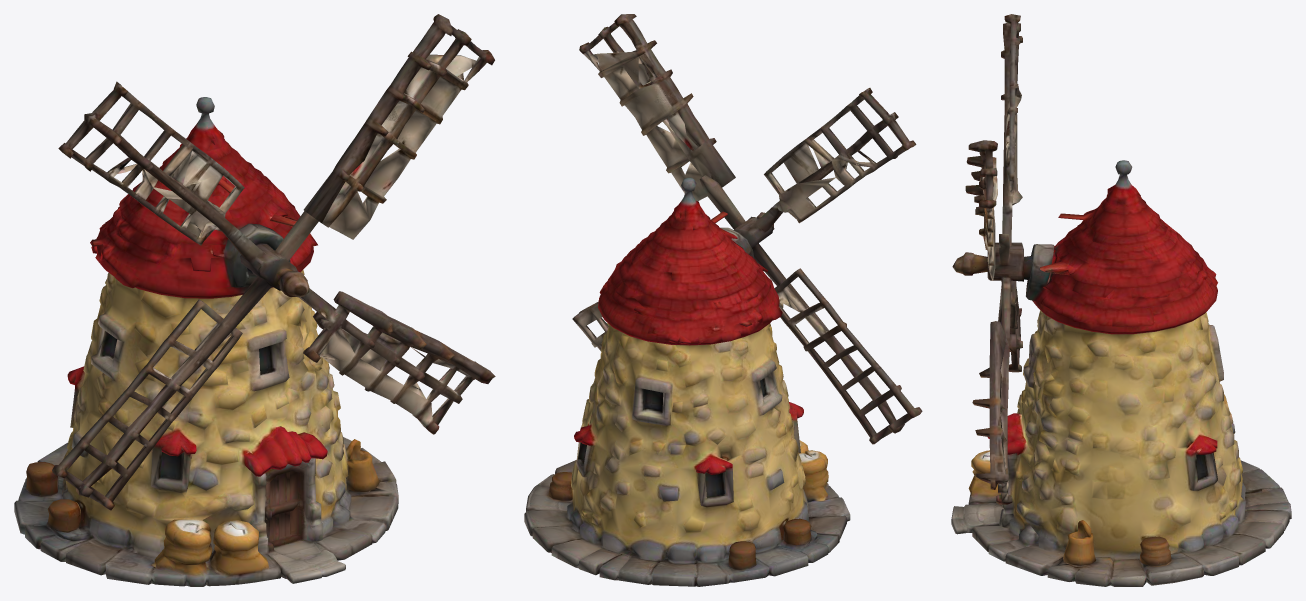
Rendered from molino_tripo.glb.
The picture shows the model from 3 angles, left to right: view 1: azimuth 30°, elevation 25°; view 2: azimuth 150°, elevation 25°; view 3: azimuth 270°, elevation 25°; orthographic projection. The views are drawn at different scales.
Parts seen in each view (by area): view 1: tripo_node_00dfe18a-3f1d-45b8-848c-d3fa57e785d7; view 2: tripo_node_00dfe18a-3f1d-45b8-848c-d3fa57e785d7; view 3: tripo_node_00dfe18a-3f1d-45b8-848c-d3fa57e785d7.
Boxes of the visible parts, left/top/right/bottom form: tripo_node_00dfe18a-3f1d-45b8-848c-d3fa57e785d7: left=14, top=14, right=495, bottom=586; tripo_node_00dfe18a-3f1d-45b8-848c-d3fa57e785d7: left=524, top=14, right=922, bottom=586; tripo_node_00dfe18a-3f1d-45b8-848c-d3fa57e785d7: left=951, top=14, right=1291, bottom=586.
Bounding box in the file's own units: 0.8503 × 0.9764 × 0.6821.
Materials: 1 (1 with a texture image).
